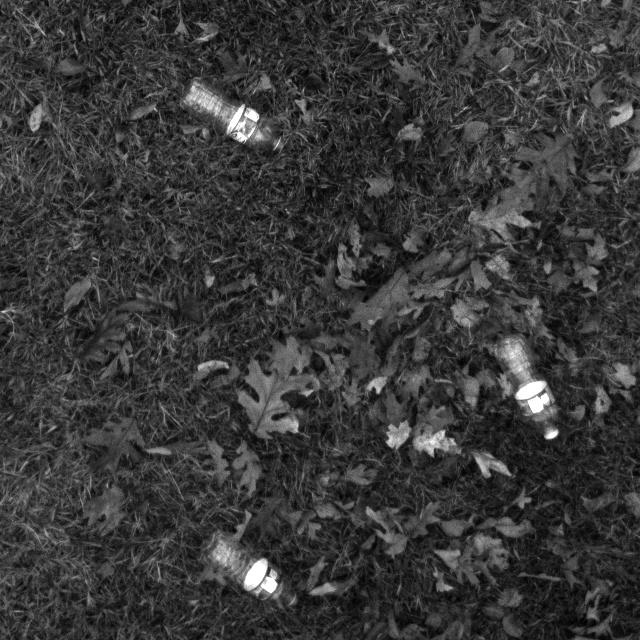bottle: (482, 330, 573, 452), (176, 79, 300, 163), (194, 528, 305, 621)
